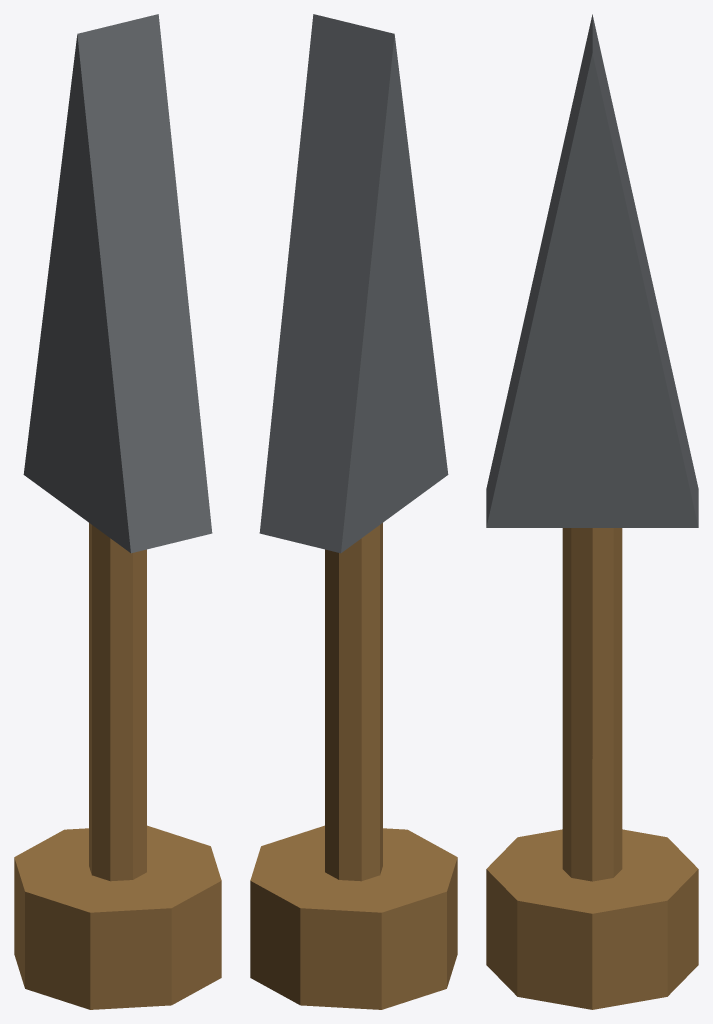
File: Finial__Spike.fbx
3 views of the same model, side by side, from view 1: azimuth 30°, elevation 25°; view 2: azimuth 150°, elevation 25°; view 3: azimuth 270°, elevation 25° (orthographic).
Parts seen in each view (by area): view 1: Finial__Spike; view 2: Finial__Spike; view 3: Finial__Spike.
Part boxes in pixels (<box>): Finial__Spike: <box>14,14,221,1009</box>; Finial__Spike: <box>250,14,457,1009</box>; Finial__Spike: <box>486,14,698,1009</box>.
Size of the model in its own units: 32 by 155 by 32.
1 material, 1 textured.
